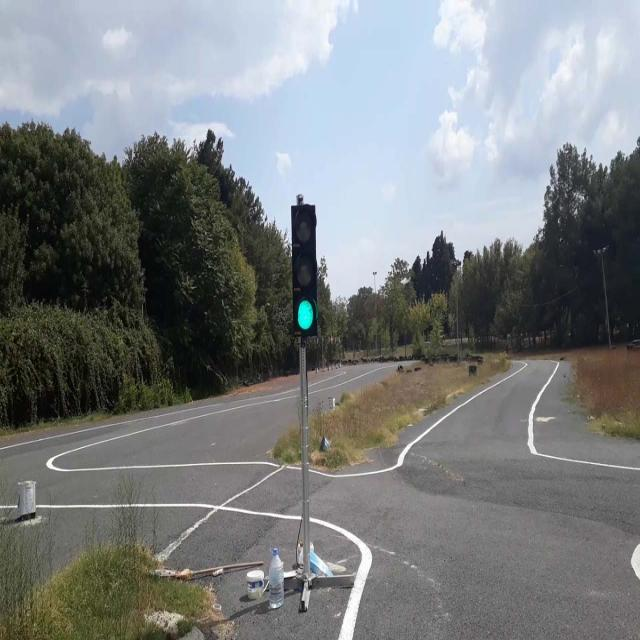yesil: (292, 206, 318, 337)
